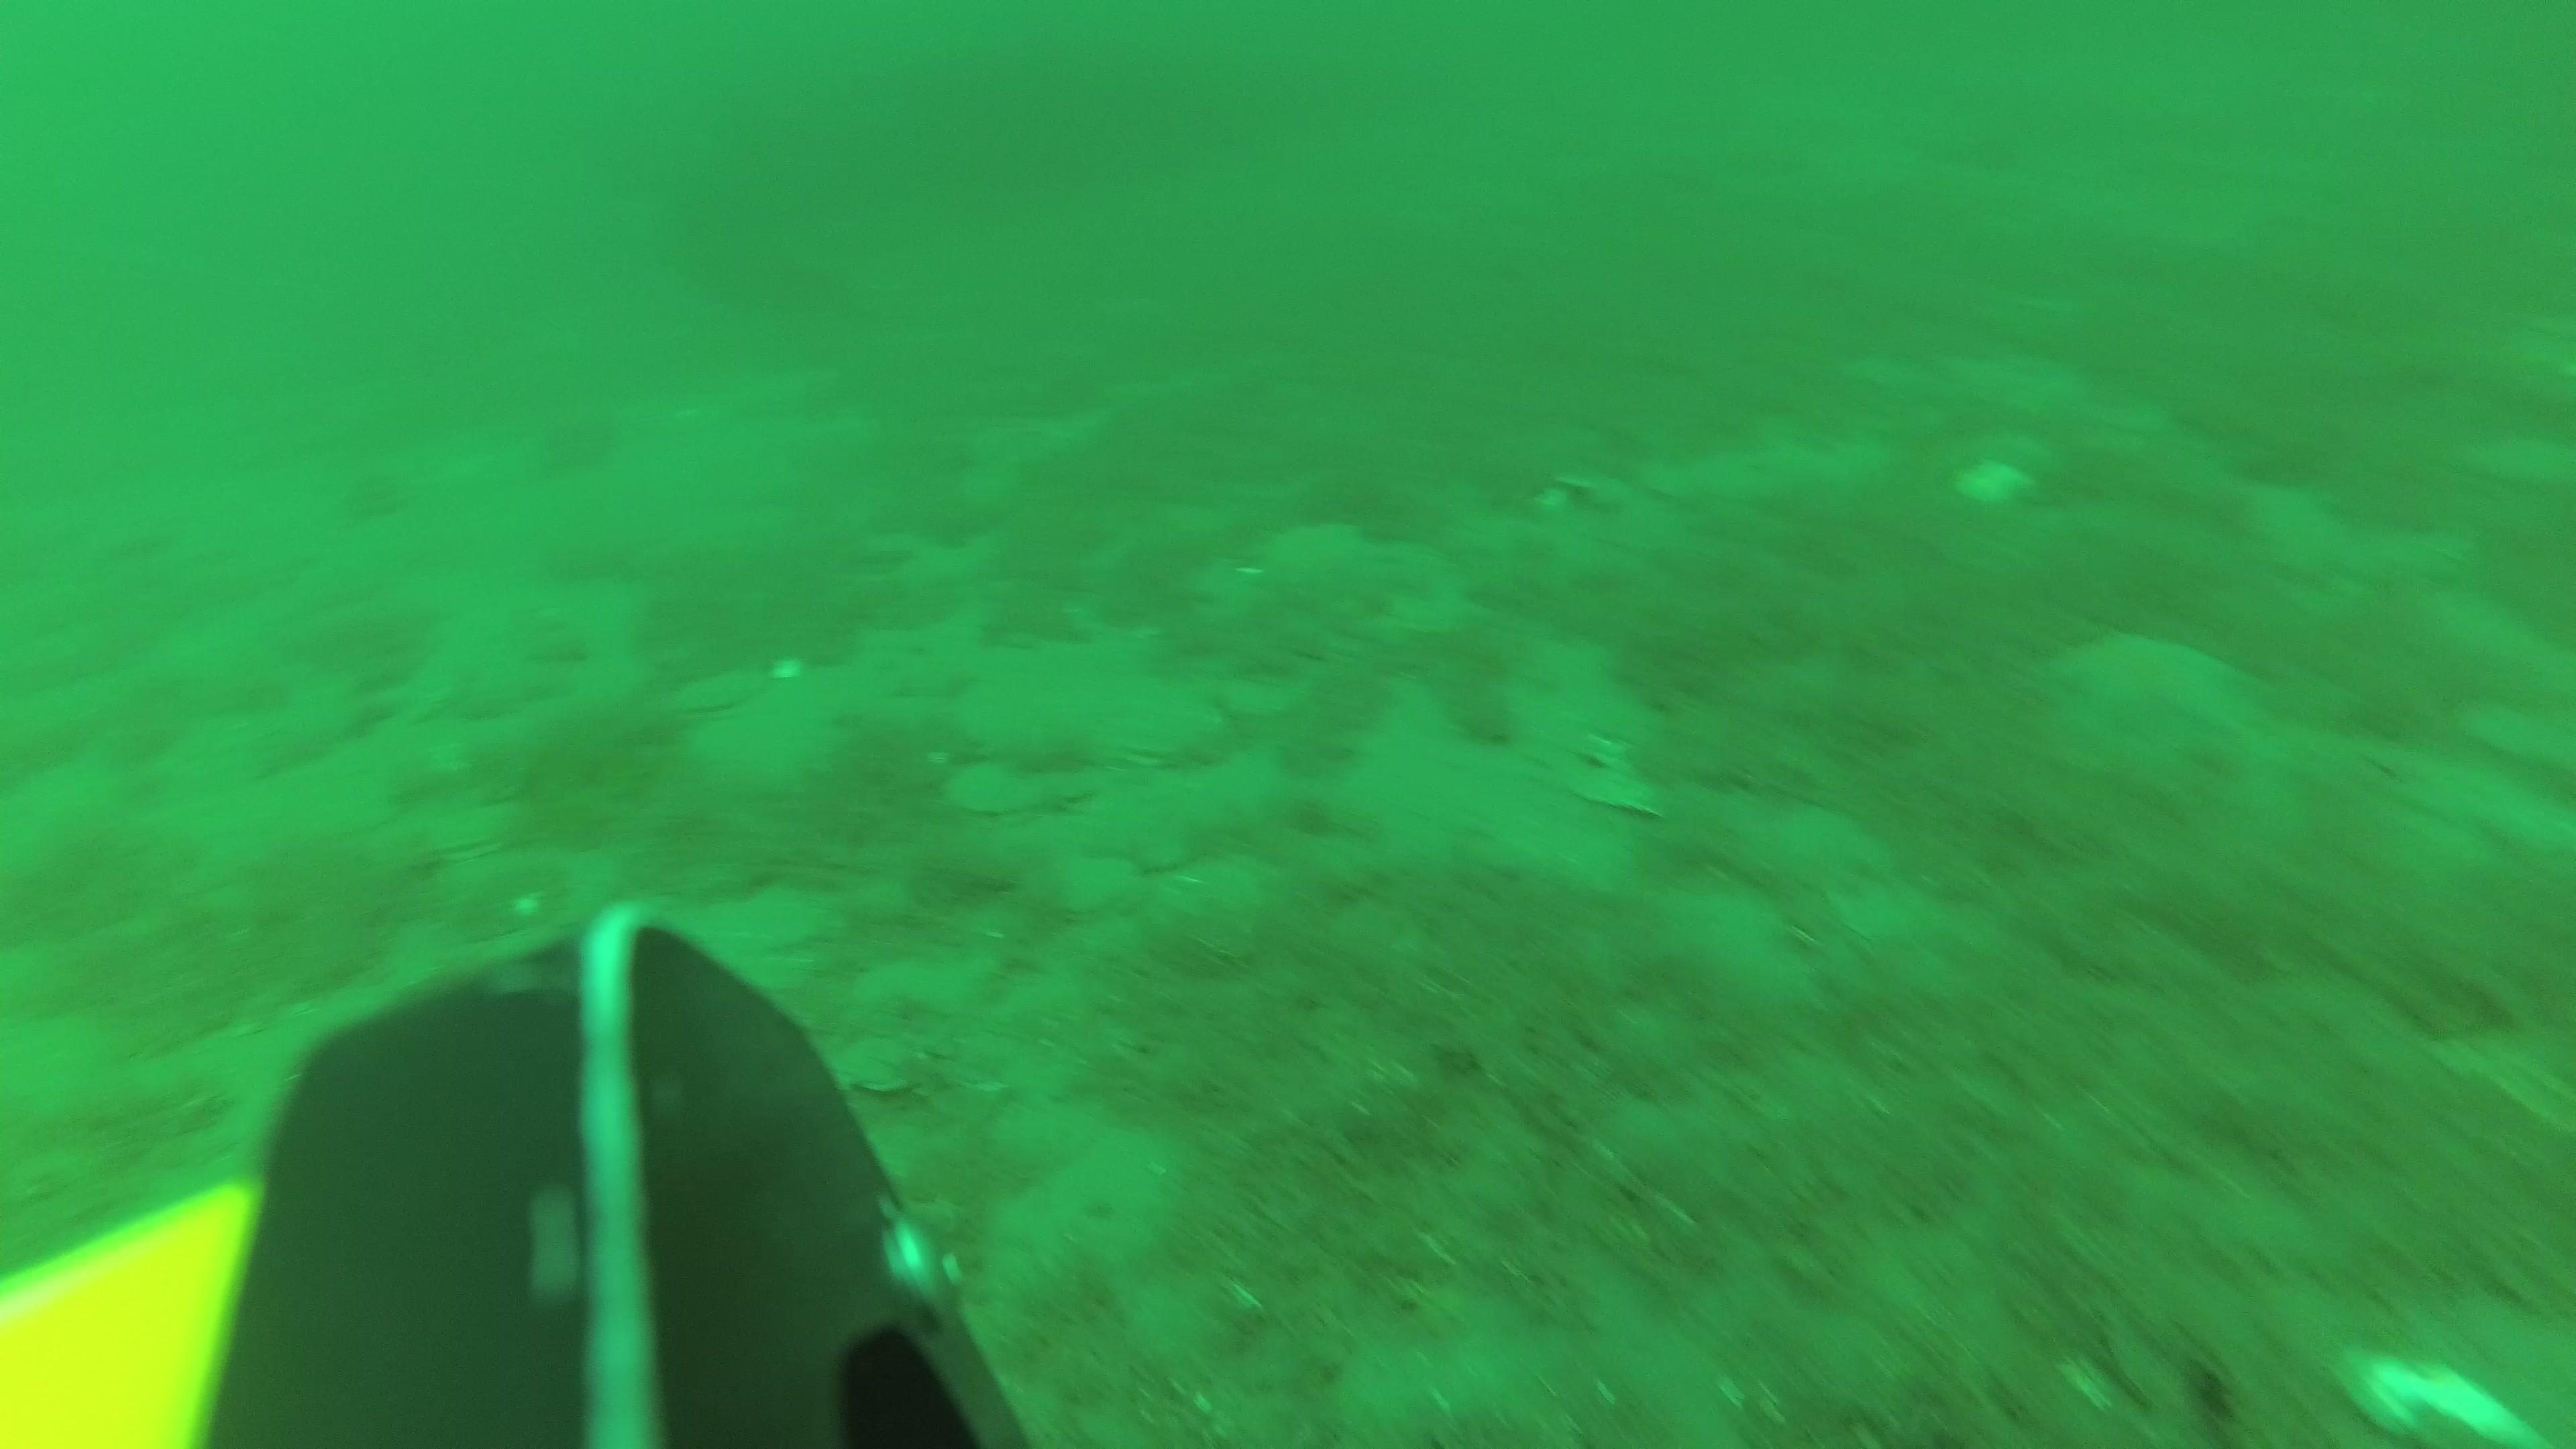scallop: (1113, 692, 1219, 771), (948, 759, 1053, 830), (425, 801, 536, 865), (1042, 855, 1136, 924), (674, 671, 763, 718)
starfish: (2028, 632, 2263, 763), (1254, 522, 1371, 596)
